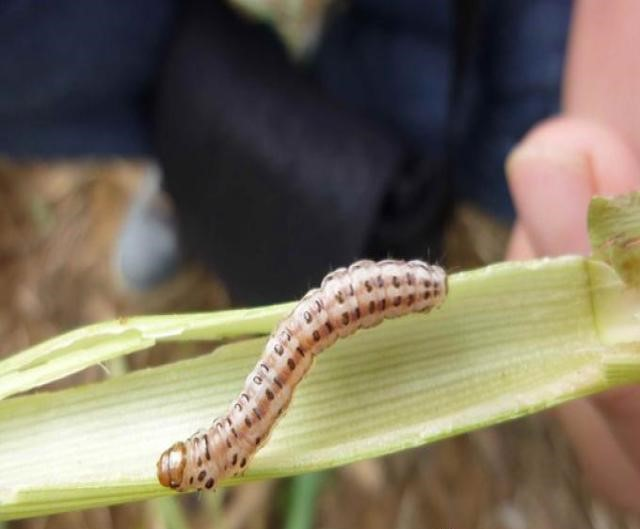yellow-stem-borer-larva: (154, 233, 498, 498)
